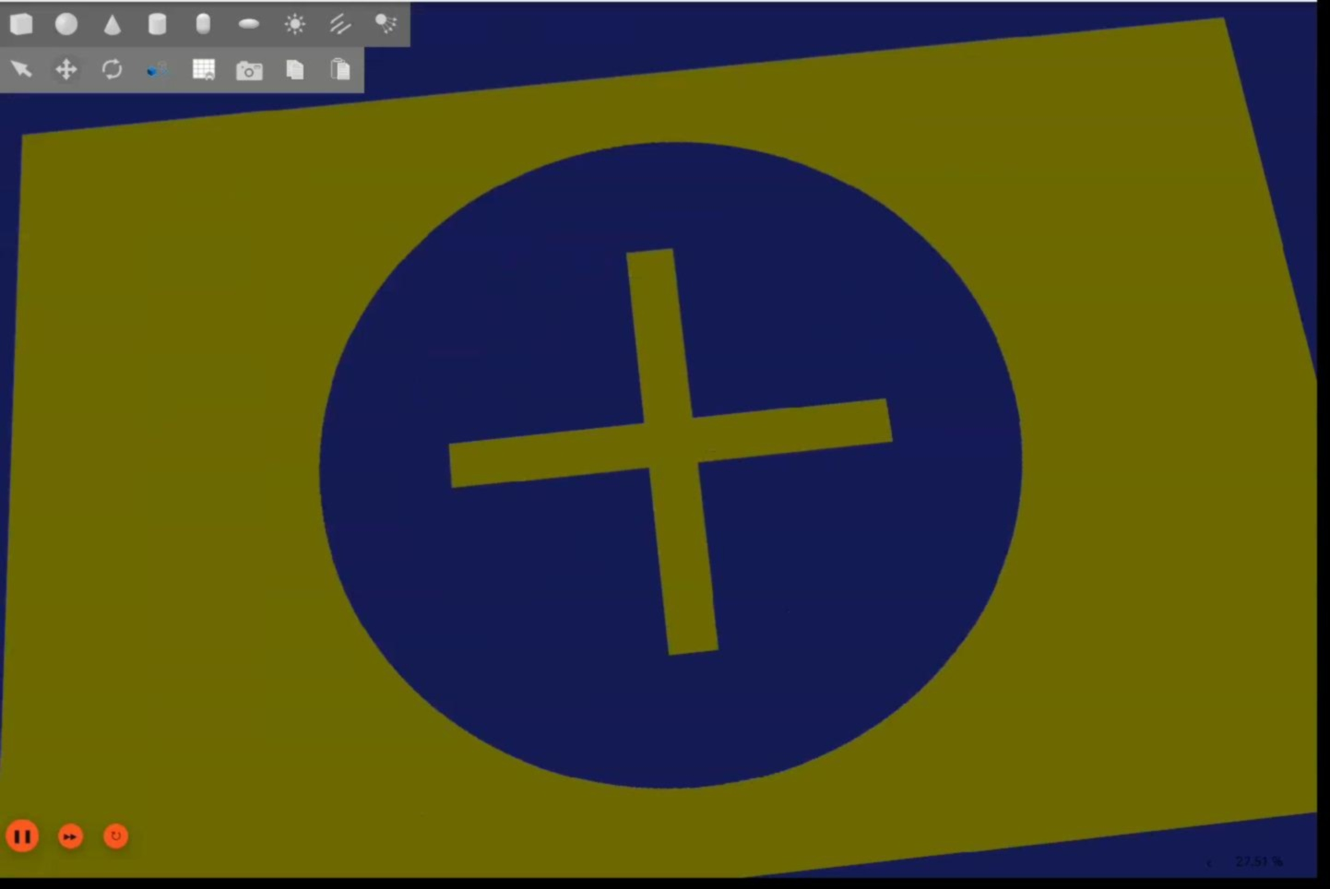large_base: (1, 6, 1320, 889)
